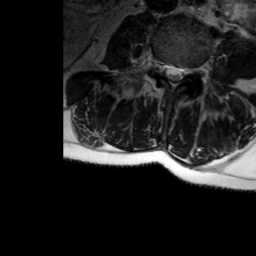CCS_normal: (169, 56, 177, 95)
LFS_stenosis: (185, 56, 193, 82)
LLS_normal: (177, 55, 185, 87)
RFS_normal: (153, 49, 161, 82)
RLS_normal: (161, 54, 169, 85)
